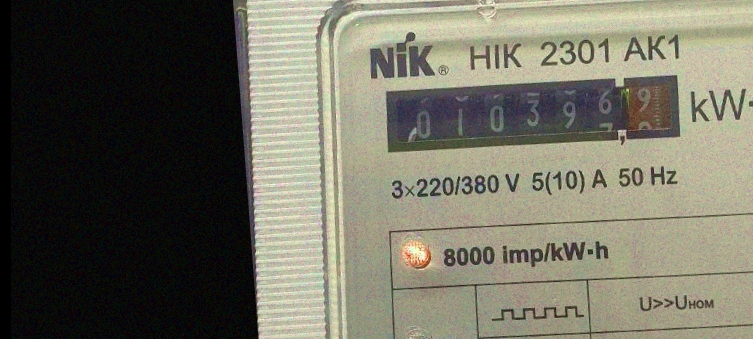0: (484, 100, 508, 135), (411, 106, 434, 140)
1: (452, 103, 468, 137)
3: (523, 96, 543, 130)
6: (593, 86, 616, 117)
9: (557, 97, 579, 131), (631, 84, 654, 116)
screen: (368, 56, 693, 173)
